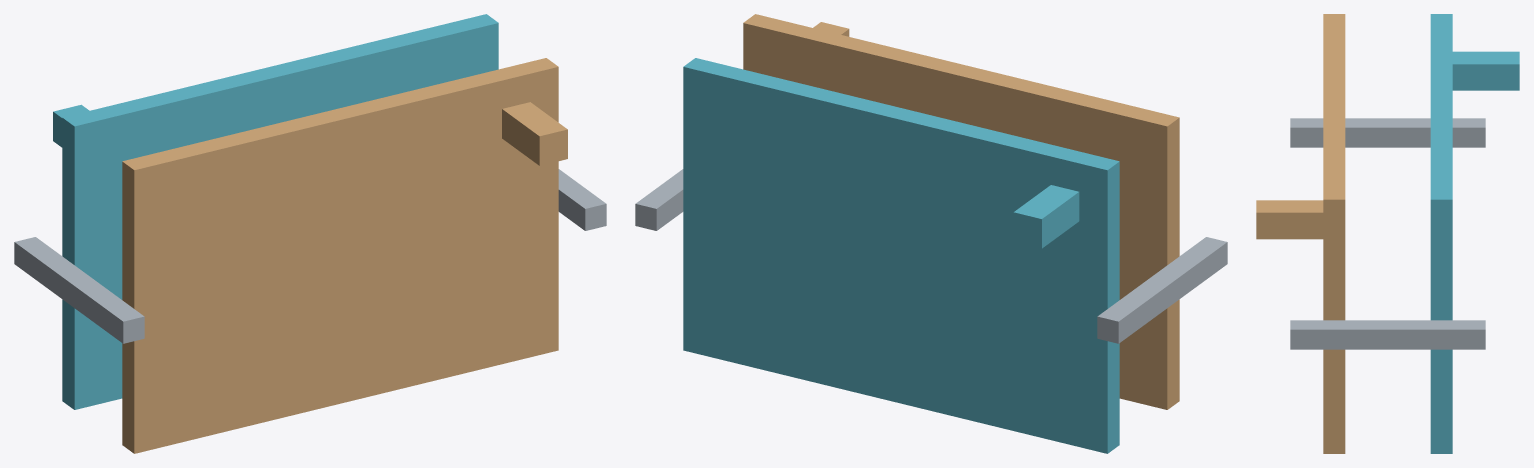
File: capacitive-variable-distance.glb
3 renders of one model, left to right at view 1: azimuth 30°, elevation 25°; view 2: azimuth 150°, elevation 25°; view 3: azimuth 270°, elevation 25°, orthographic. The views are drawn at different scales.
Visible parts, largest first — view 1: Movable_Orange_Plate, Fixed_Blue_Plate, Left_Support, Movable_Terminal, Right_Support; view 2: Fixed_Blue_Plate, Movable_Orange_Plate, Left_Support, Fixed_Terminal, Right_Support; view 3: Fixed_Blue_Plate, Movable_Orange_Plate, Right_Support, Left_Support, Fixed_Terminal, Movable_Terminal.
Part boxes in pixels (bbox=[...]): Movable_Orange_Plate: bbox=[122, 58, 558, 453]; Fixed_Blue_Plate: bbox=[62, 14, 498, 409]; Left_Support: bbox=[14, 237, 144, 343]; Movable_Terminal: bbox=[502, 102, 567, 165]; Right_Support: bbox=[558, 169, 606, 230]; Fixed_Blue_Plate: bbox=[683, 58, 1119, 453]; Movable_Orange_Plate: bbox=[743, 14, 1179, 409]; Left_Support: bbox=[1097, 237, 1227, 343]; Fixed_Terminal: bbox=[1013, 185, 1079, 248]; Right_Support: bbox=[635, 169, 683, 230]; Fixed_Blue_Plate: bbox=[1430, 14, 1452, 453]; Movable_Orange_Plate: bbox=[1323, 14, 1345, 453]; Right_Support: bbox=[1290, 320, 1485, 349]; Left_Support: bbox=[1290, 118, 1485, 147]; Fixed_Terminal: bbox=[1452, 51, 1519, 90]; Movable_Terminal: bbox=[1256, 200, 1323, 239].
Size of the model in its own units: 2.05 by 1.15 by 1.08.
